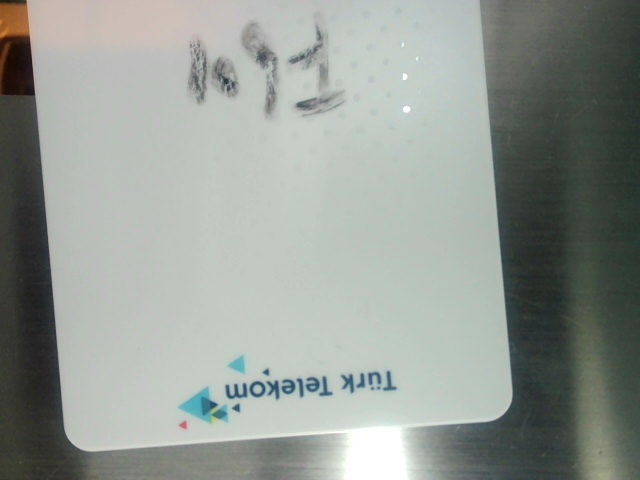AQ_TURKTelekom: (154, 352, 410, 428)
